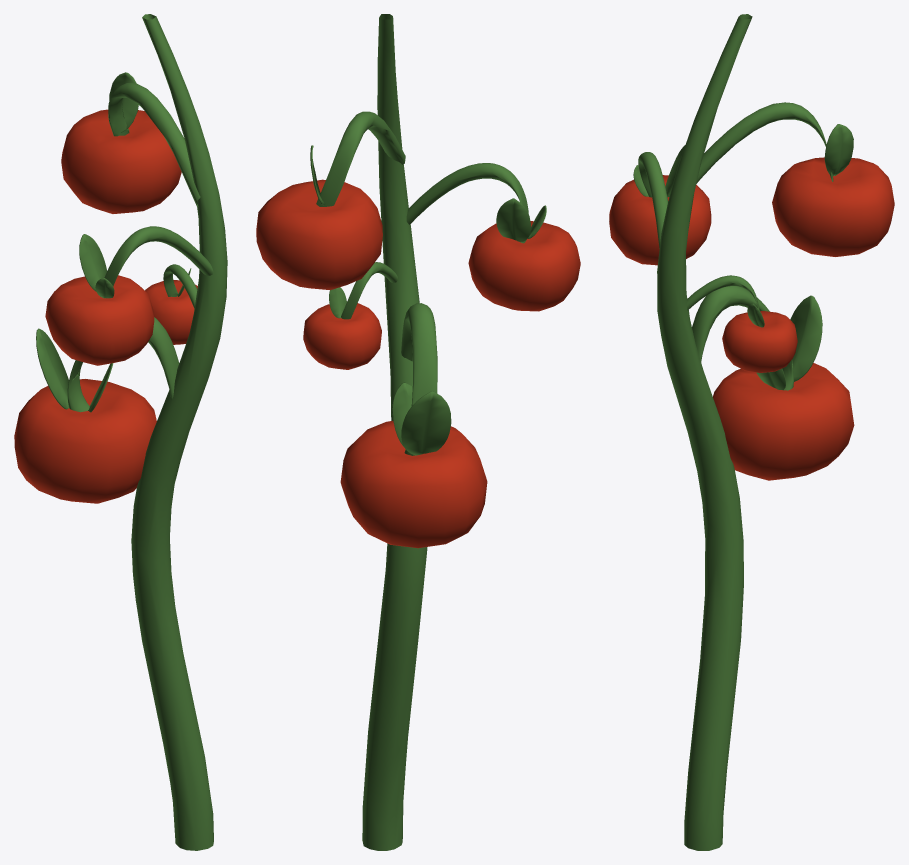
The model's file is 2ºFase_Tomate.fbx.
The picture shows the model from 3 angles, left to right: view 1: azimuth 30°, elevation 25°; view 2: azimuth 150°, elevation 25°; view 3: azimuth 270°, elevation 25°; orthographic projection. The views are drawn at different scales.
Visible parts, largest first — view 1: NurbsPath, Tomate.001, Tomate, Tomate.002, NurbsPath.001, NurbsPath.003, Tomate.003, NurbsPath.002, Circle.001, Circle.005, NurbsPath.004, Circle.002; view 2: NurbsPath, Tomate.001, Tomate, Tomate.002, Tomate.003, NurbsPath.002, NurbsPath.001, Circle.001, NurbsPath.003, Circle.005, NurbsPath.004, Circle.003; view 3: NurbsPath, Tomate.001, Tomate, Tomate.002, Tomate.003, NurbsPath.001, NurbsPath.002, Circle.001, NurbsPath.003, Circle.002, NurbsPath.004.
Part boxes in pixels (x1,y1,x2,y2): NurbsPath: [131, 14, 227, 850]; Tomate.001: [14, 379, 156, 503]; Tomate: [61, 109, 181, 213]; Tomate.002: [45, 275, 154, 365]; NurbsPath.001: [108, 83, 200, 206]; NurbsPath.003: [104, 226, 213, 286]; Tomate.003: [145, 280, 197, 344]; NurbsPath.002: [67, 317, 179, 412]; Circle.001: [36, 328, 68, 409]; Circle.005: [79, 234, 106, 291]; NurbsPath.004: [163, 264, 197, 308]; Circle.002: [109, 72, 138, 132]; NurbsPath: [362, 14, 427, 850]; Tomate.001: [340, 421, 487, 548]; Tomate: [256, 179, 382, 290]; Tomate.002: [468, 221, 580, 311]; Tomate.003: [303, 303, 381, 369]; NurbsPath.002: [401, 303, 437, 455]; NurbsPath.001: [316, 111, 405, 206]; Circle.001: [401, 391, 451, 455]; NurbsPath.003: [406, 163, 528, 243]; Circle.005: [496, 198, 530, 242]; NurbsPath.004: [341, 262, 397, 319]; Circle.003: [392, 382, 412, 446]; NurbsPath: [657, 14, 752, 850]; Tomate.001: [713, 363, 854, 480]; Tomate: [772, 157, 894, 256]; Tomate.002: [609, 175, 711, 265]; Tomate.003: [722, 311, 797, 372]; NurbsPath.001: [696, 102, 833, 183]; NurbsPath.002: [692, 286, 793, 390]; Circle.001: [790, 295, 822, 381]; NurbsPath.003: [638, 152, 668, 248]; Circle.002: [824, 124, 853, 176]; NurbsPath.004: [687, 275, 759, 310].
Bounding box in the file's own units: 54.81 × 207 × 65.87.
